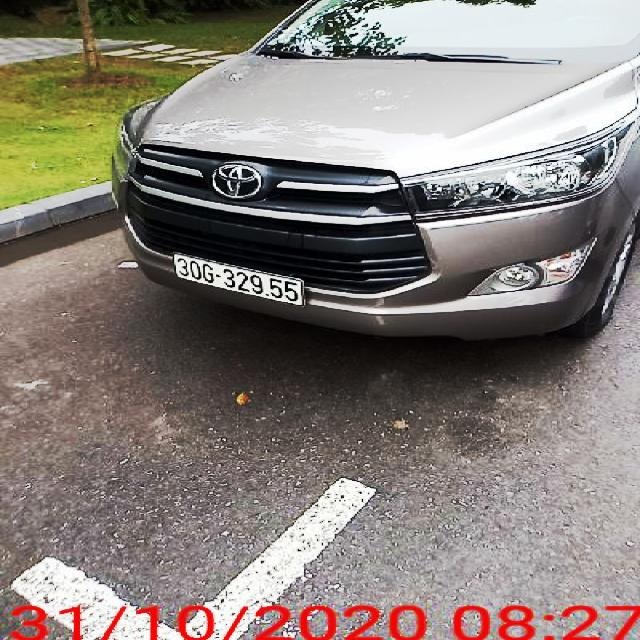license_plate: (177, 254, 305, 306)
